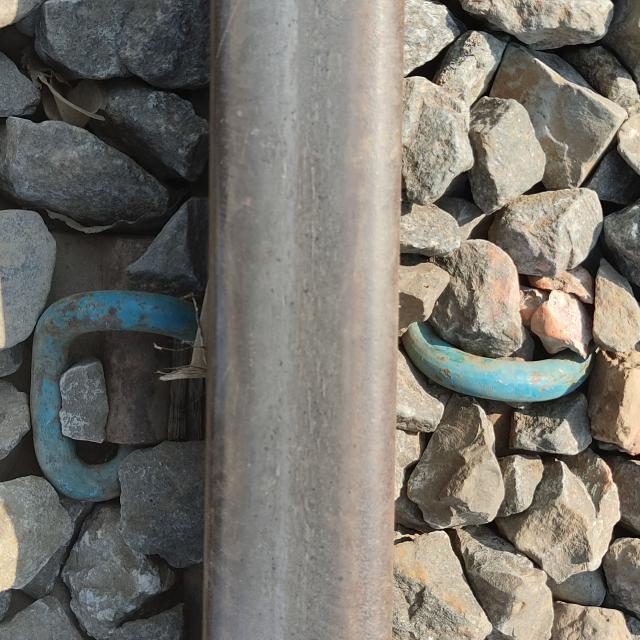Good Fasteners: (30, 290, 197, 501), (403, 322, 594, 405)
